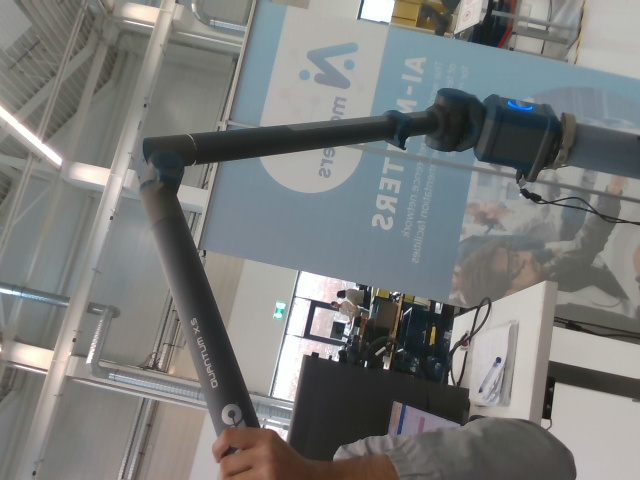Robot arm: (138, 88, 640, 431)
